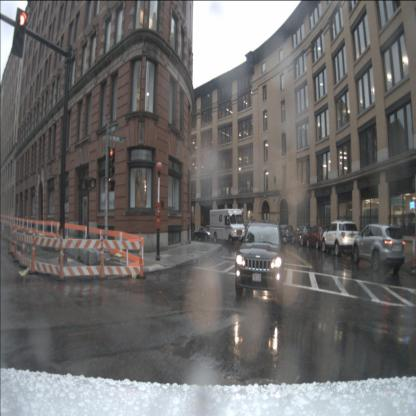movable_object-trafficcone: (56, 228, 67, 283), (27, 226, 37, 276), (98, 229, 107, 280), (137, 232, 146, 280), (19, 225, 26, 269), (13, 222, 18, 264), (8, 220, 13, 256), (1, 216, 5, 243)
vehicle-car: (235, 220, 284, 299), (352, 224, 406, 272), (322, 221, 360, 256), (306, 224, 330, 250), (291, 225, 314, 246), (274, 224, 294, 244), (194, 226, 212, 240)
vehicle-truck: (209, 208, 245, 245)
